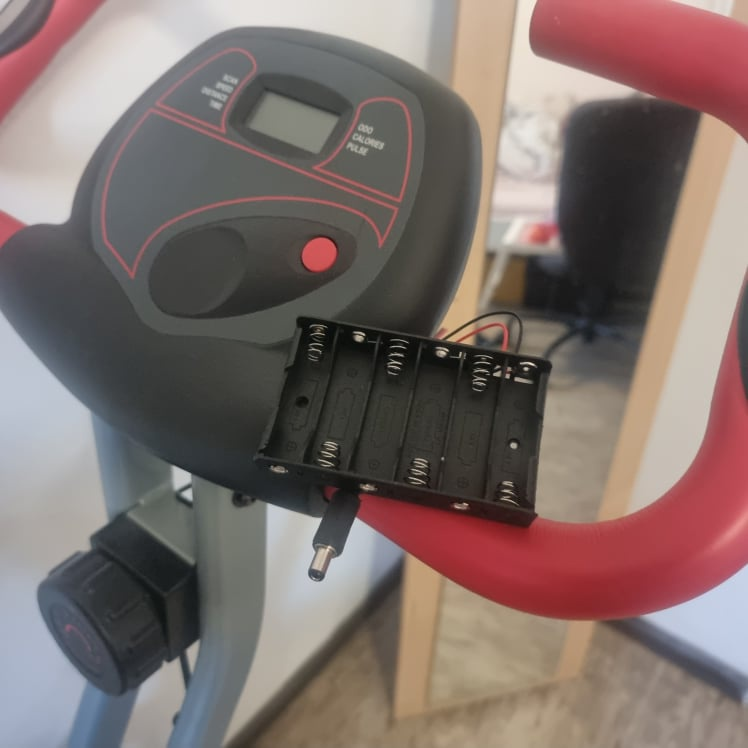BATTERY BOX: (254, 315, 553, 529)
